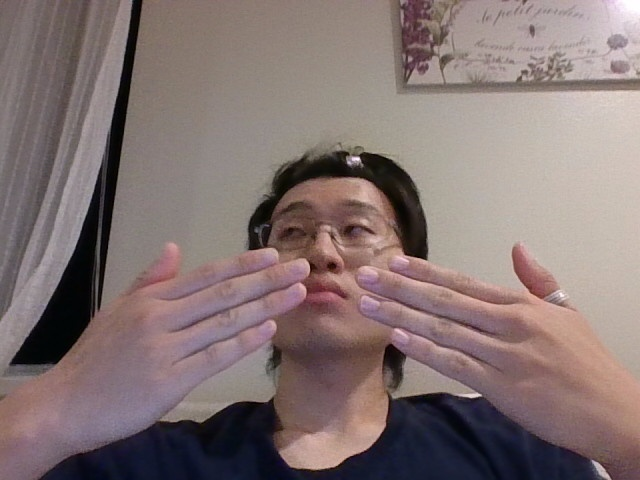ThankYou: (55, 240, 621, 454)
